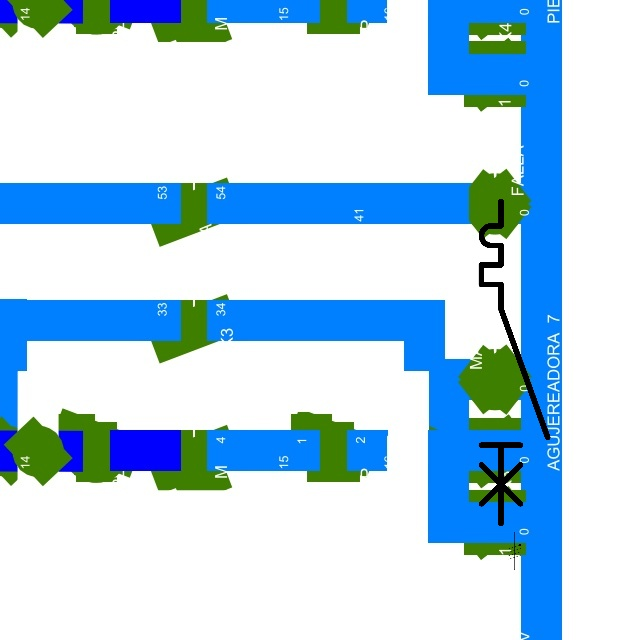interruptor_termomagnetico: (473, 193, 556, 531)
